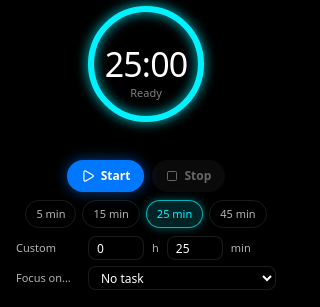
Test: TimerTool › presets choose the duration and are disabled with the custom input while running
Click the button "5 min".
click(51, 214)  # box [25, 200, 76, 228]
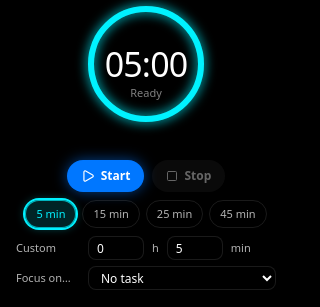
expect the button "5 min" is pressed: met, box [25, 200, 76, 228]
Click the button "Start".
click(106, 176)  # box [67, 160, 144, 192]
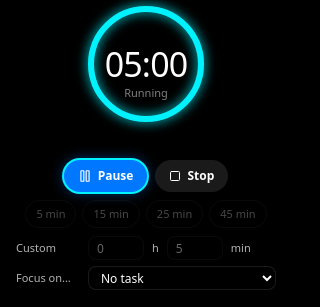
expect the button "5 min" is disabled: met, box [25, 200, 76, 228]
expect the button "15 min" is disabled: met, box [82, 200, 140, 228]
expect the button "25 min" is disabled: met, box [146, 200, 203, 228]
